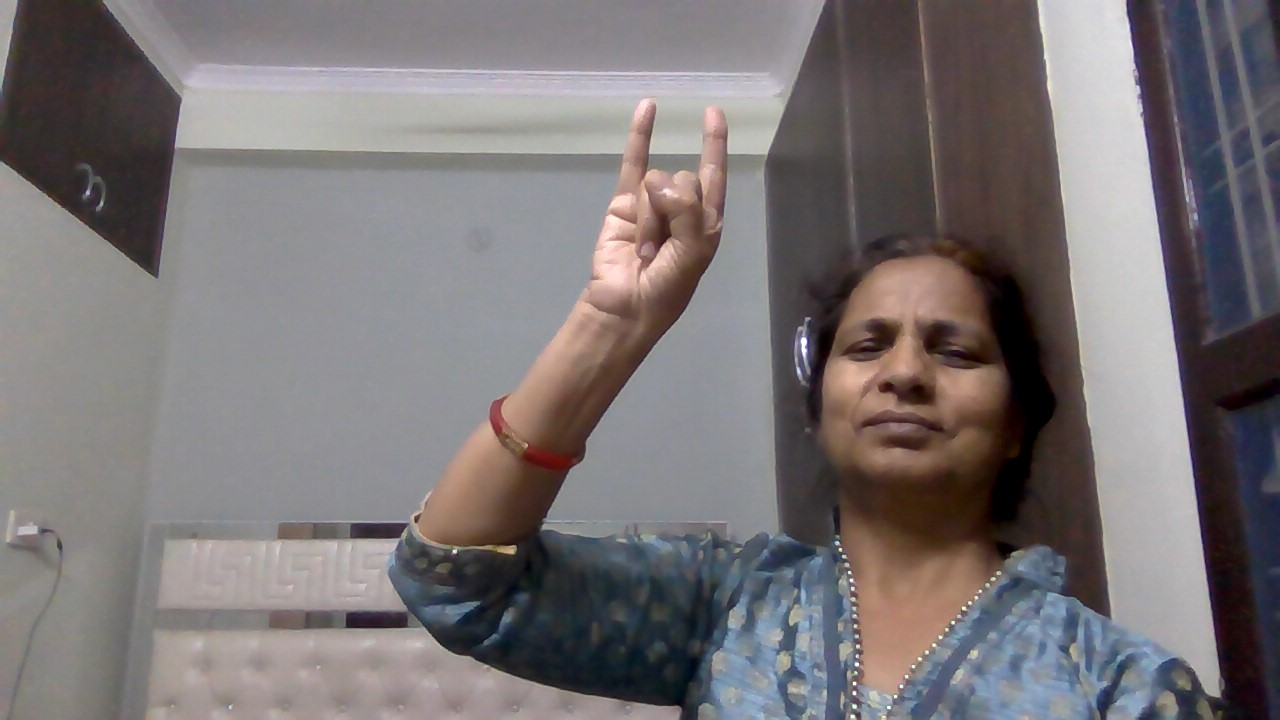Select All: (585, 86, 743, 344)
